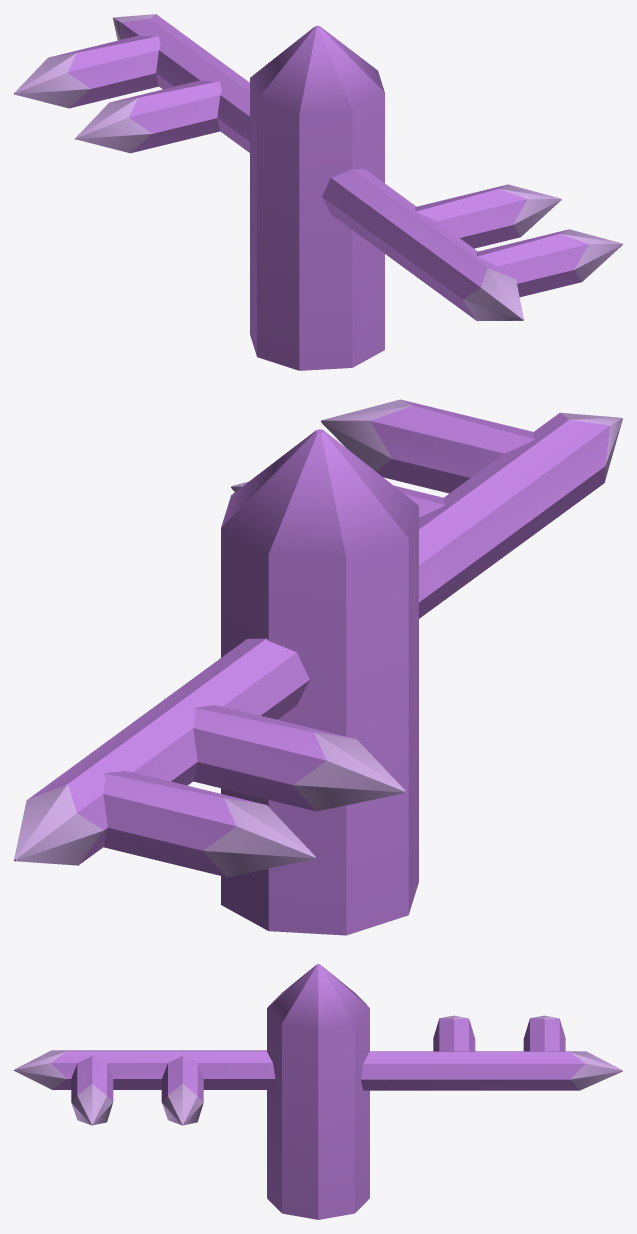
Rendered from round_5.fbx.
3 renders of one model, top to bottom at view 1: azimuth 30°, elevation 25°; view 2: azimuth 150°, elevation 25°; view 3: azimuth 270°, elevation 25°, orthographic. The views are drawn at different scales.
Parts seen in each view (by area): view 1: polySurface11; view 2: polySurface11; view 3: polySurface11.
Part boxes in pixels (box(x1,y1,x2,y2)): polySurface11: box(14, 14, 622, 370); polySurface11: box(14, 399, 622, 935); polySurface11: box(14, 964, 622, 1219).
Bounding box in the file's own units: 12.28 × 12.25 × 29.
